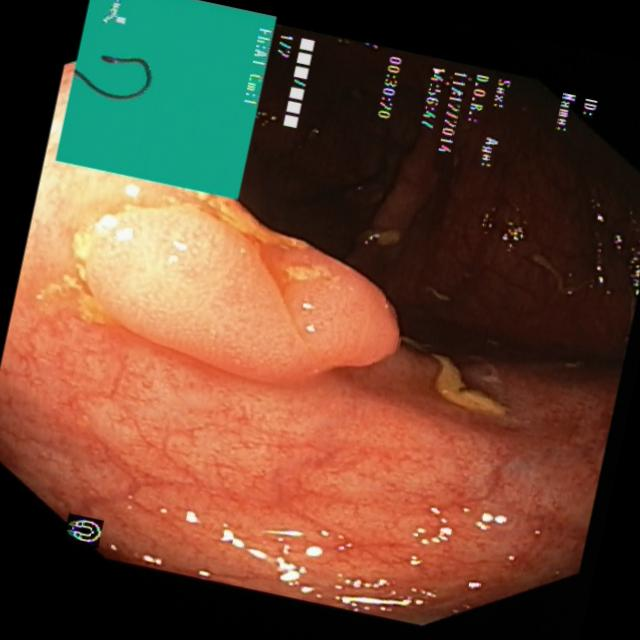Polyps: (54, 201, 406, 385)
